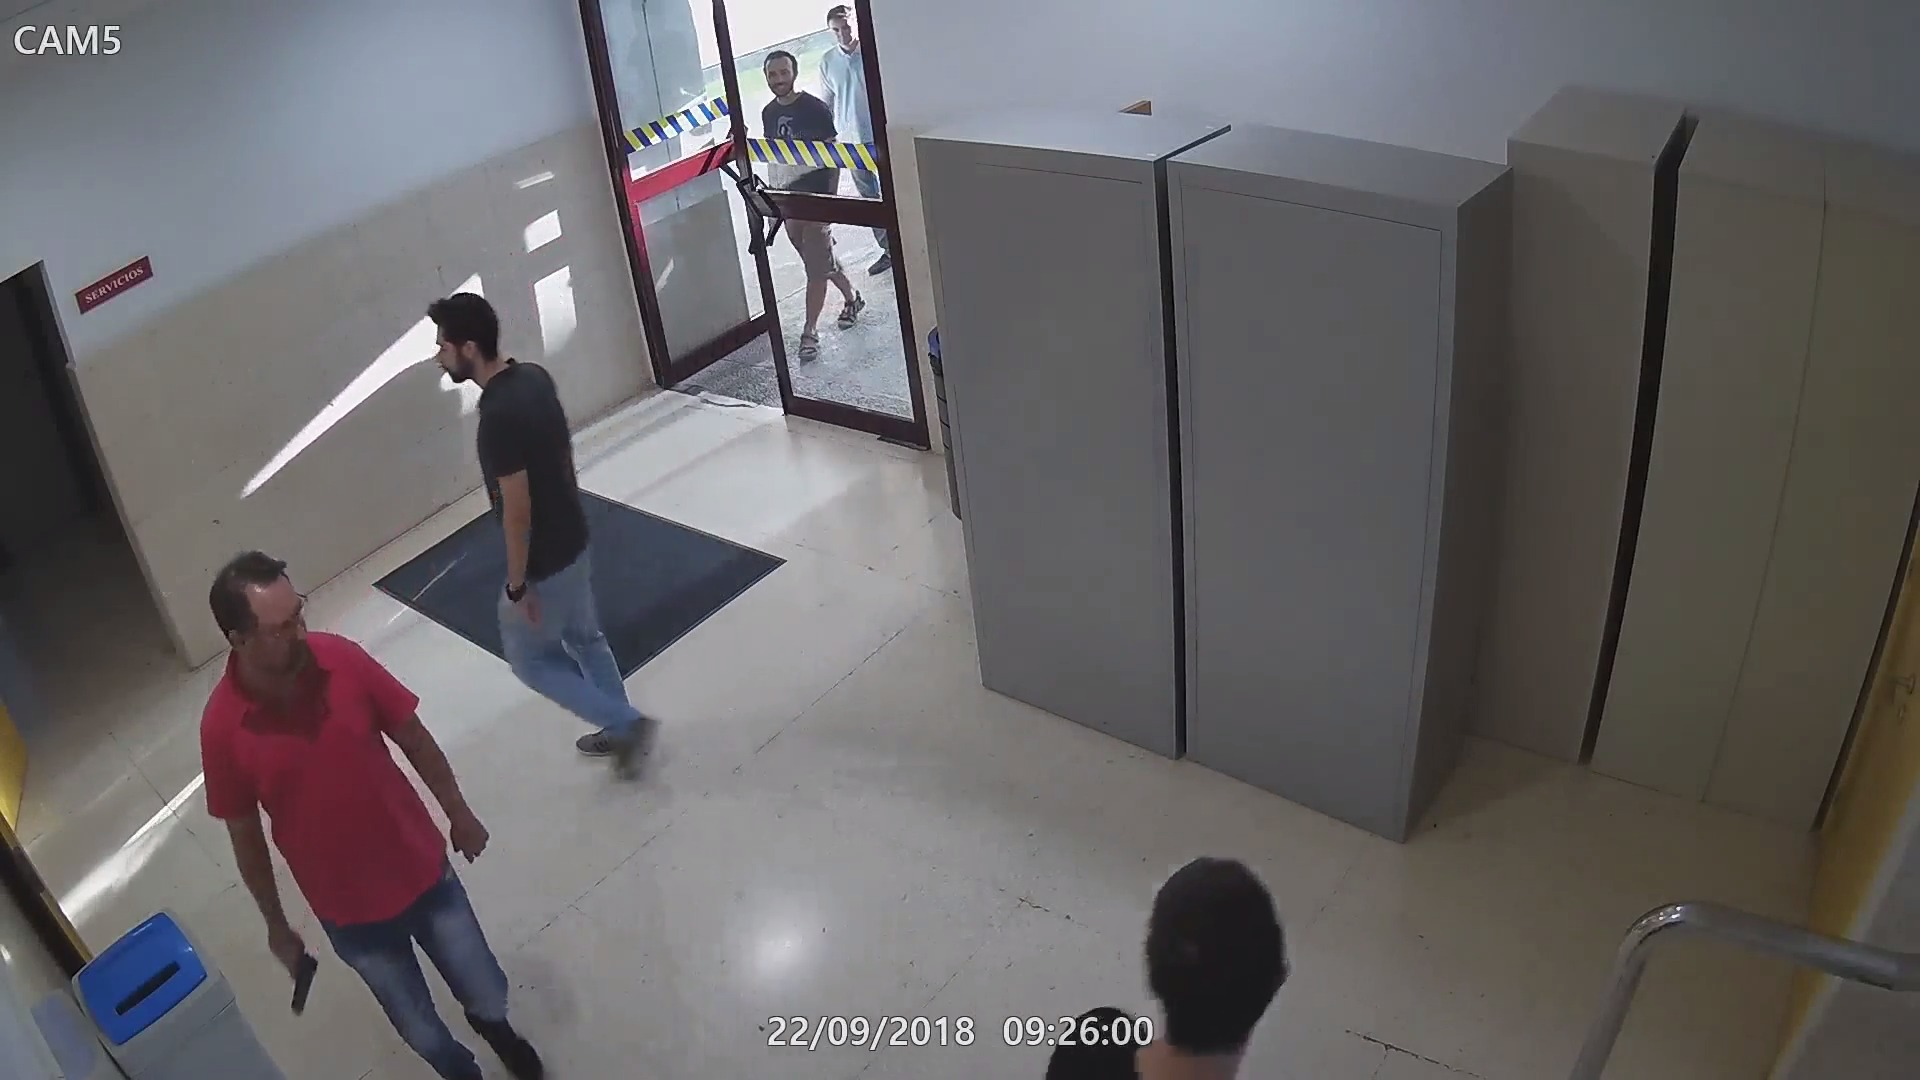pistol: (262, 926, 326, 1017)
